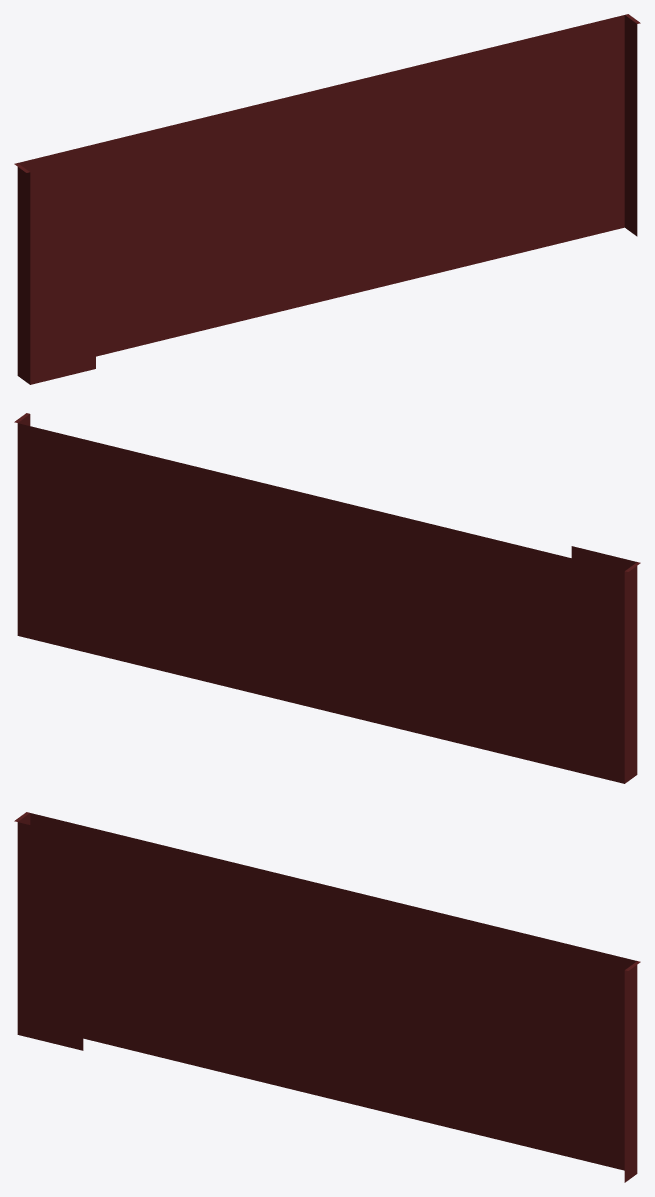
File: p55-wall-end-2-base.fbx
3 views of the same model, one above another, from view 1: azimuth 30°, elevation 25°; view 2: azimuth 150°, elevation 25°; view 3: azimuth 330°, elevation 25° (orthographic).
Parts seen in each view (by area): view 1: p55-end-2-base; view 2: p55-end-2-base; view 3: p55-end-2-base.
Part boxes in pixels (<box>): p55-end-2-base: <box>14,14,640,384</box>; p55-end-2-base: <box>14,413,640,783</box>; p55-end-2-base: <box>14,812,640,1182</box>.
Size of the model in its own units: 846 by 280 by 30.
